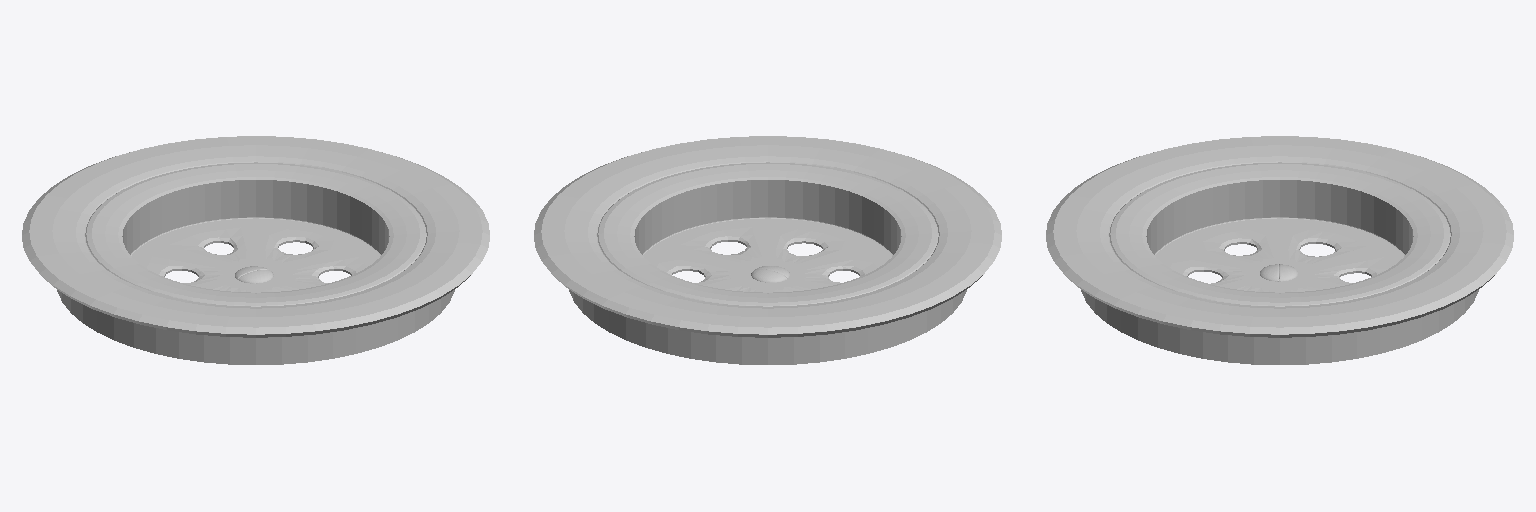
The model's file is sink_flange.obj.
3 views of the same model, side by side, from view 1: azimuth 30°, elevation 25°; view 2: azimuth 150°, elevation 25°; view 3: azimuth 270°, elevation 25° (orthographic).
Visible parts, largest first — view 1: Flange; view 2: Flange; view 3: Flange.
Part boxes in pixels (x1,y1,x2,y2): Flange: (22, 136, 489, 364); Flange: (534, 136, 1001, 364); Flange: (1046, 136, 1513, 364).
Size of the model in its own units: 8.98 by 1.05 by 8.98.